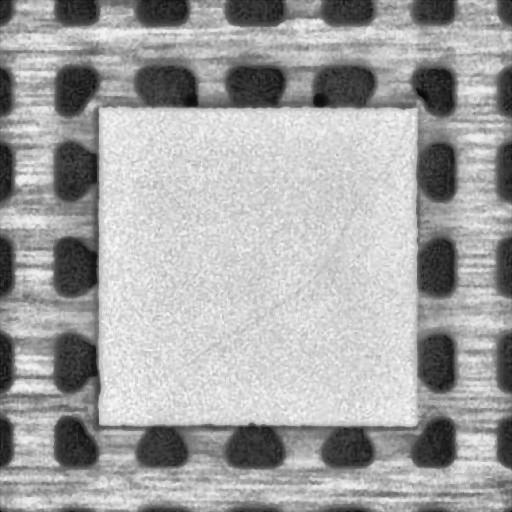DIE_CRACK: (183, 111, 410, 373)
